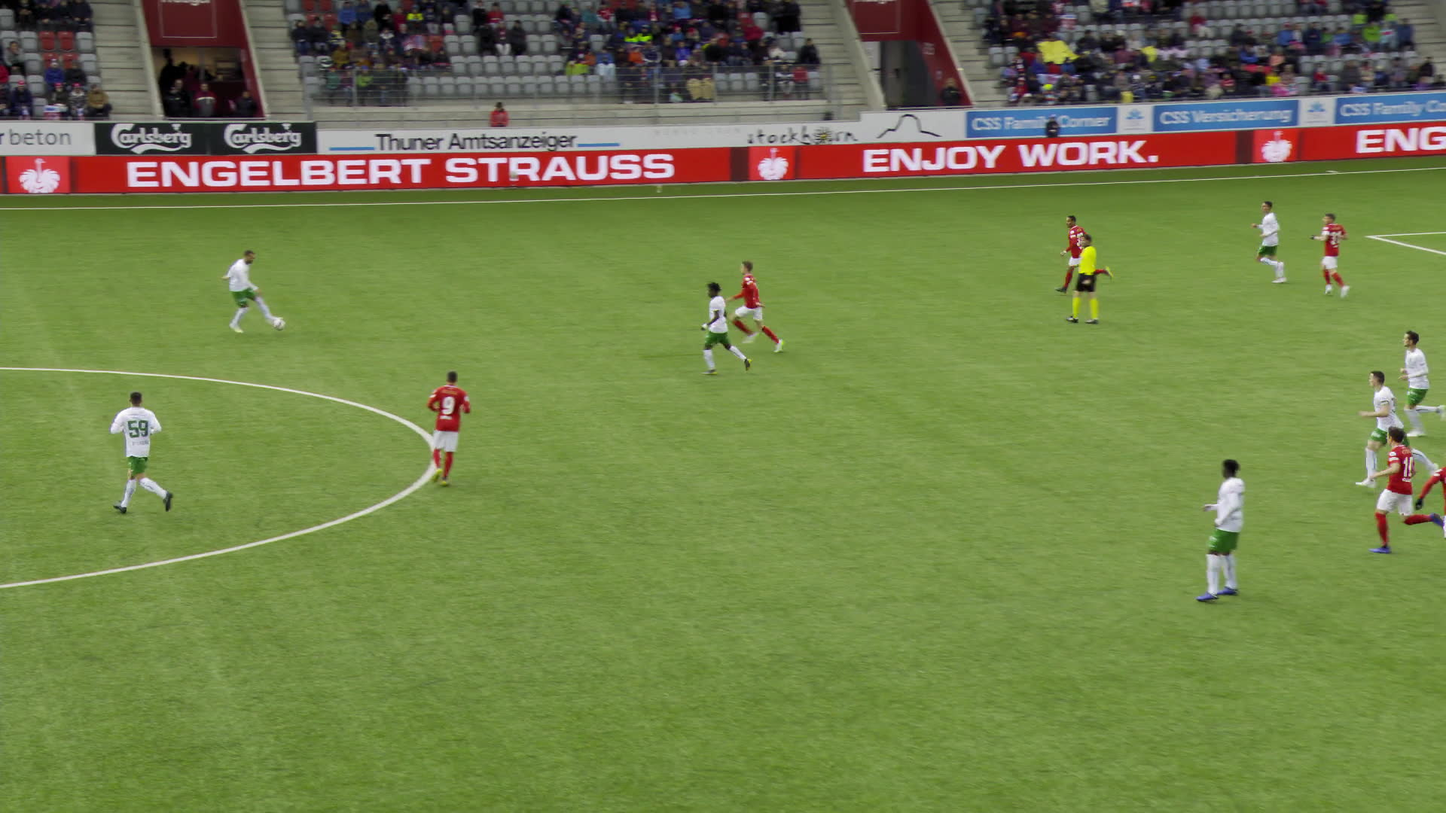ball: (269, 318, 286, 334)
player: (1355, 423, 1441, 554), (1353, 370, 1430, 490), (109, 390, 175, 516), (1192, 455, 1246, 603), (413, 369, 464, 487), (220, 247, 285, 336), (724, 259, 785, 353), (1395, 327, 1445, 439), (697, 281, 754, 376), (1054, 214, 1109, 294), (1301, 212, 1344, 302), (1247, 199, 1290, 285), (1411, 452, 1445, 553)
referee: (1055, 233, 1098, 326)
